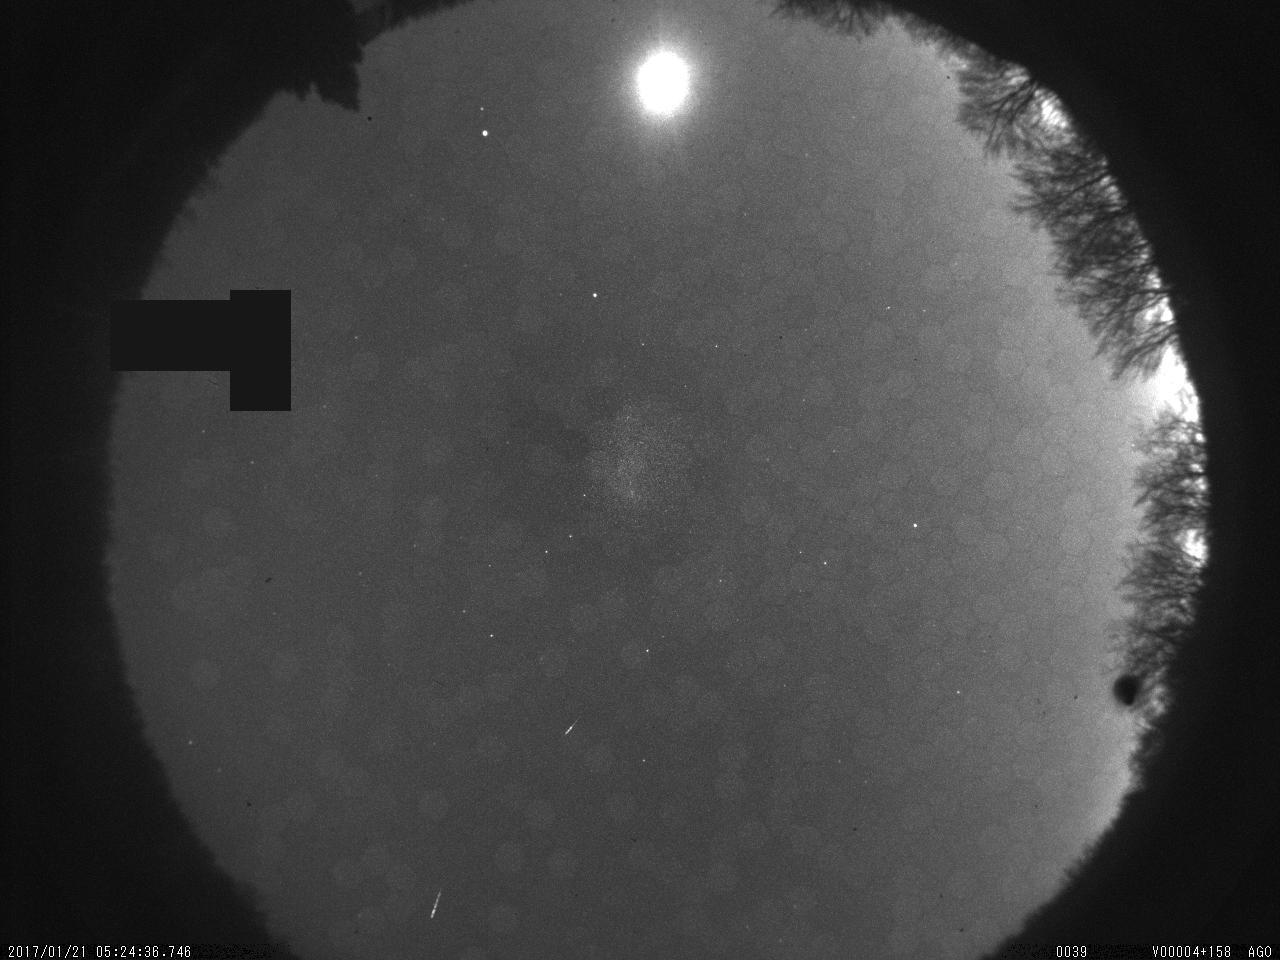meteor: (422, 877, 459, 934)
